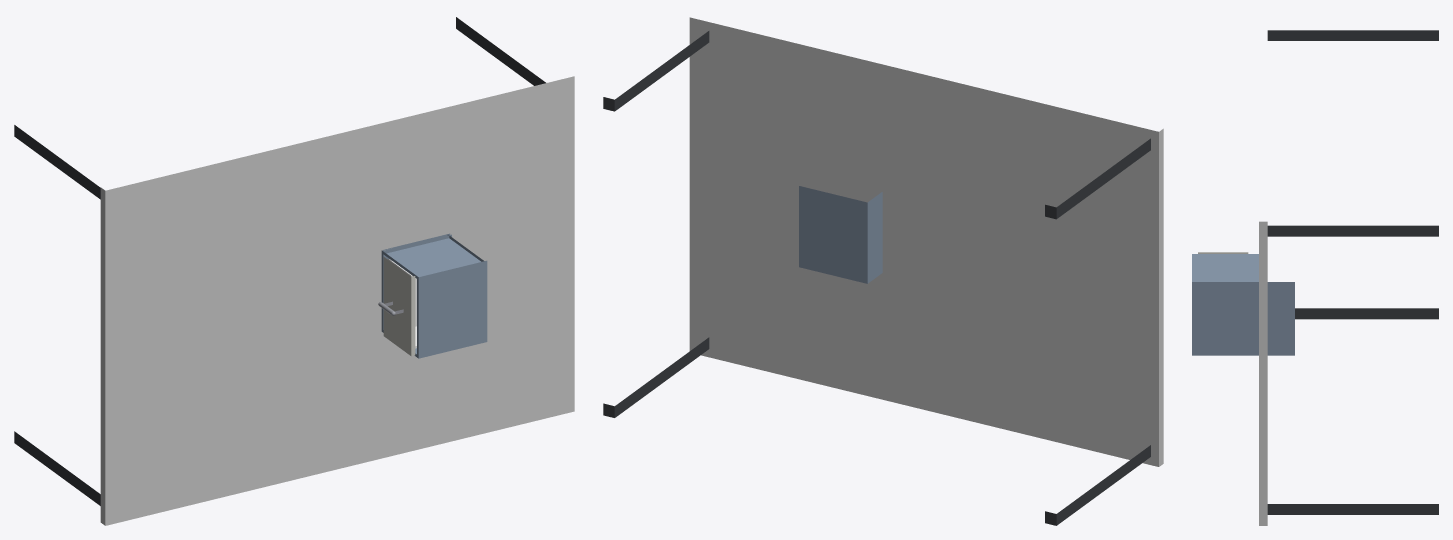
The picture shows the model from 3 angles, left to right: view 1: azimuth 30°, elevation 25°; view 2: azimuth 150°, elevation 25°; view 3: azimuth 270°, elevation 25°; orthographic projection. The views are drawn at different scales.
Visible parts, largest first — view 1: s0, s1, s2; view 2: s0, s1; view 3: s0, s1.
Part boxes in pixels (bbox=[...]): s0: bbox=[14, 17, 574, 525]; s1: bbox=[381, 233, 487, 358]; s2: bbox=[378, 257, 416, 356]; s0: bbox=[603, 17, 1163, 525]; s1: bbox=[799, 186, 882, 283]; s0: bbox=[1259, 30, 1438, 525]; s1: bbox=[1192, 254, 1294, 355].
Size of the model in its own units: 2.05 by 1.4 by 1.03.
